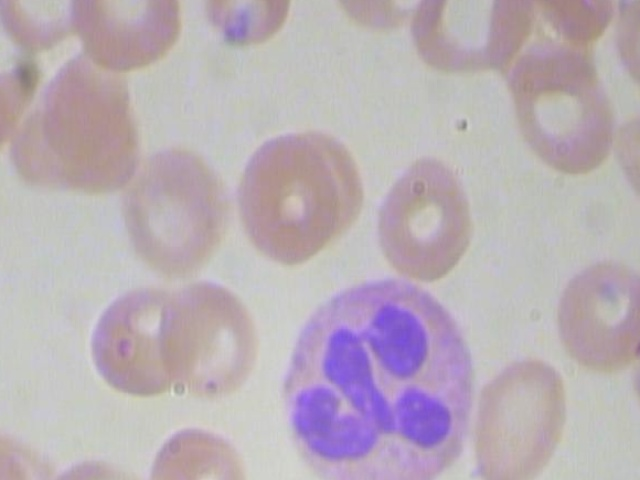RBC: (501, 43, 621, 184), (151, 262, 265, 402), (76, 269, 190, 409), (125, 139, 231, 287), (232, 125, 340, 264), (371, 148, 476, 285), (462, 352, 569, 480), (545, 237, 640, 373), (69, 0, 183, 75), (146, 420, 253, 480), (188, 0, 301, 53), (0, 0, 100, 56), (42, 436, 156, 480)
WBC: (275, 274, 484, 480)
